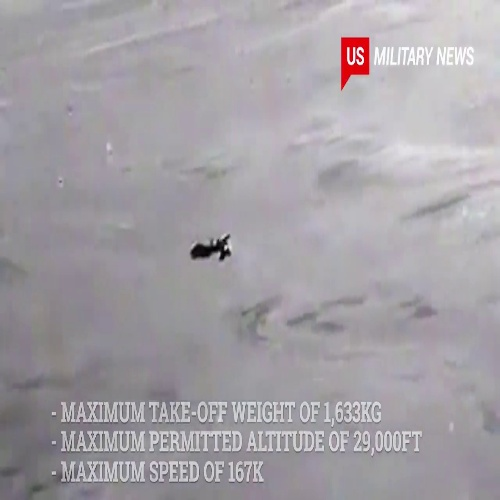uav: (189, 231, 234, 264)
